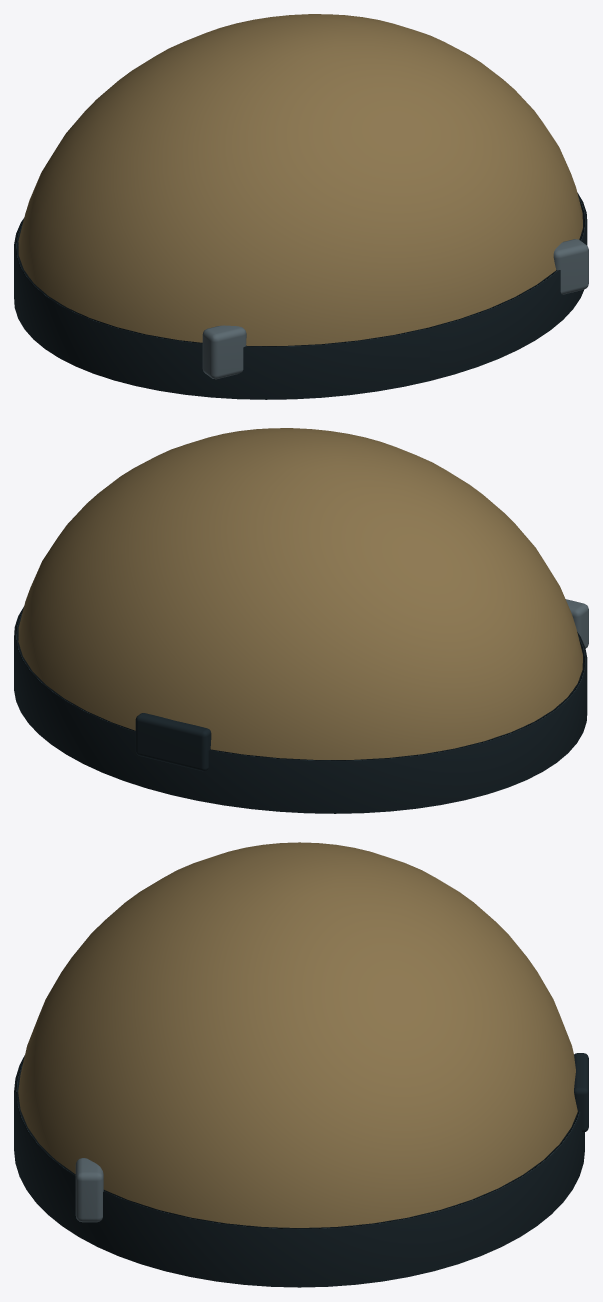
Rendered from goose-recon-helmet.glb.
3 views of the same model, one above another, from view 1: azimuth 30°, elevation 25°; view 2: azimuth 150°, elevation 25°; view 3: azimuth 270°, elevation 25° (orthographic). The views are drawn at different scales.
Parts seen in each view (by area): view 1: goose_helmet_recon_mesh; view 2: goose_helmet_recon_mesh; view 3: goose_helmet_recon_mesh.
Boxes of the visible parts, x1,y1,x2,y2 form: goose_helmet_recon_mesh: (14, 14, 588, 399); goose_helmet_recon_mesh: (14, 428, 588, 813); goose_helmet_recon_mesh: (14, 842, 588, 1287).
Bounding box in the file's own units: 0.927 × 0.426 × 0.8165.
